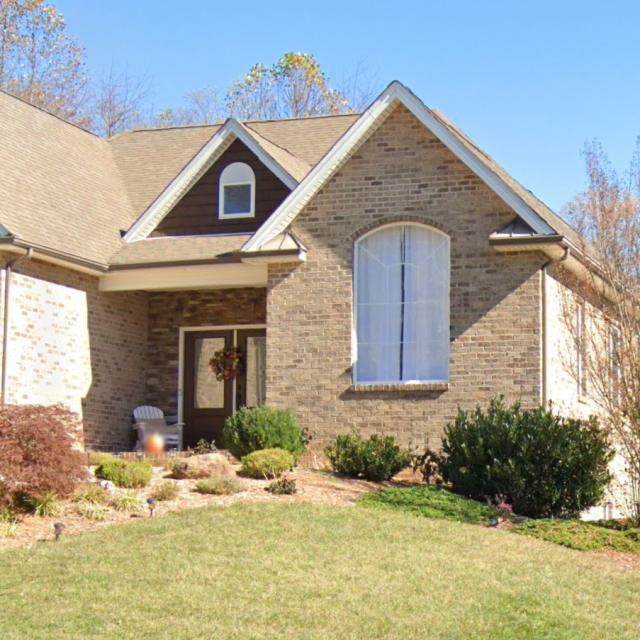House: (0, 79, 640, 529)
